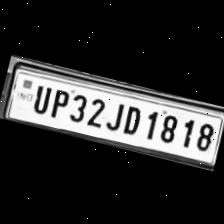1: (138, 105, 161, 140), (174, 113, 197, 148)
2: (82, 90, 108, 128)
3: (64, 87, 90, 123)
8: (154, 108, 182, 144), (190, 116, 217, 152)
D: (118, 100, 144, 136)
J: (102, 96, 126, 132)
P: (44, 82, 72, 119)
U: (27, 78, 54, 114)
